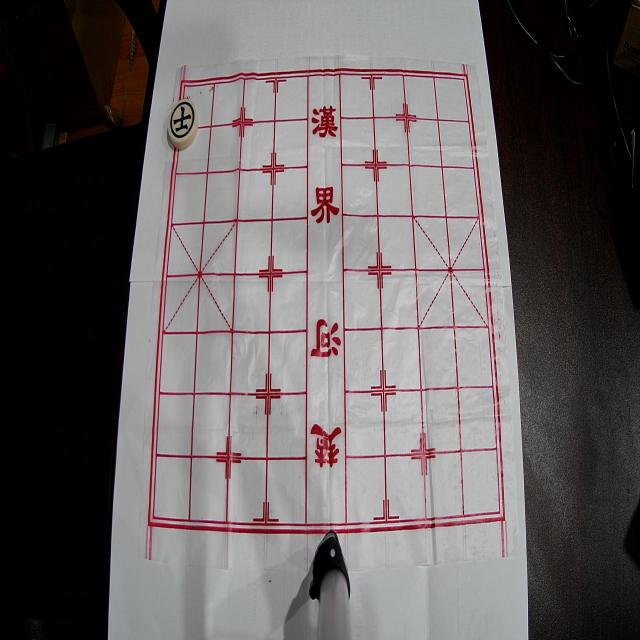black-guard: (168, 99, 198, 149)
